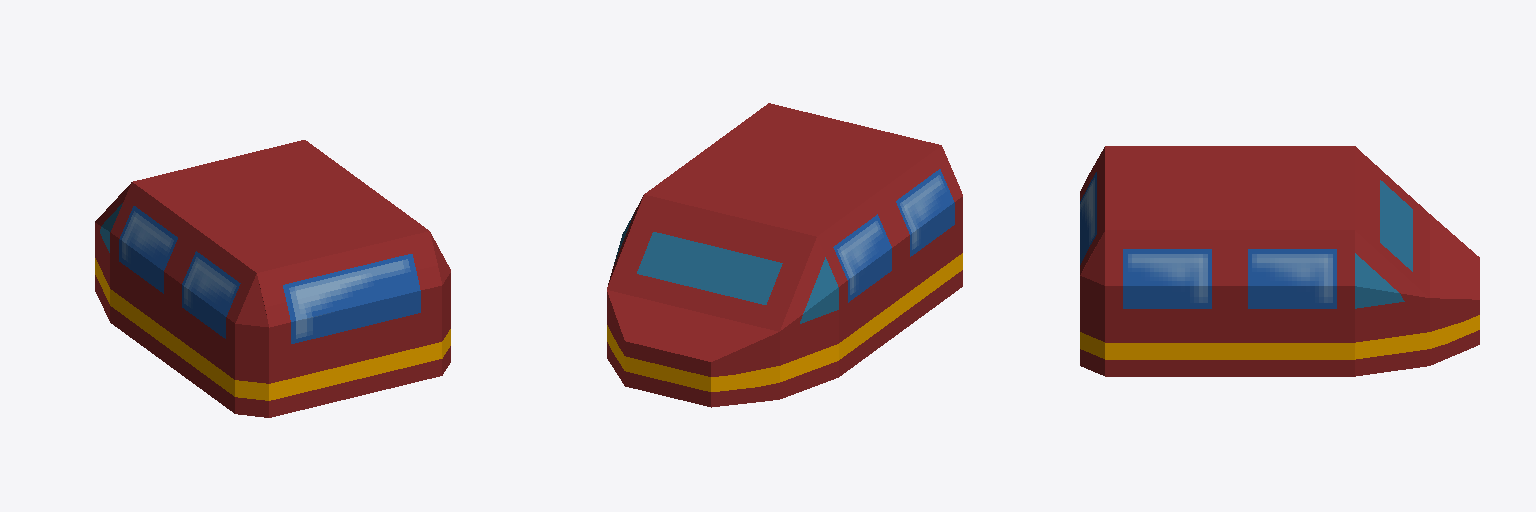
3 views of the same model, side by side, from view 1: azimuth 30°, elevation 25°; view 2: azimuth 150°, elevation 25°; view 3: azimuth 270°, elevation 25° (orthographic).
Visible parts, largest first — view 1: cube; view 2: cube; view 3: cube.
Boxes of the visible parts, box(x1,y1,x2,y2) form: cube: box(95, 140, 450, 417); cube: box(607, 103, 962, 407); cube: box(1080, 146, 1479, 376).
Bounding box in the file's own units: 0.625 × 0.375 × 1.
2 materials, 1 textured.